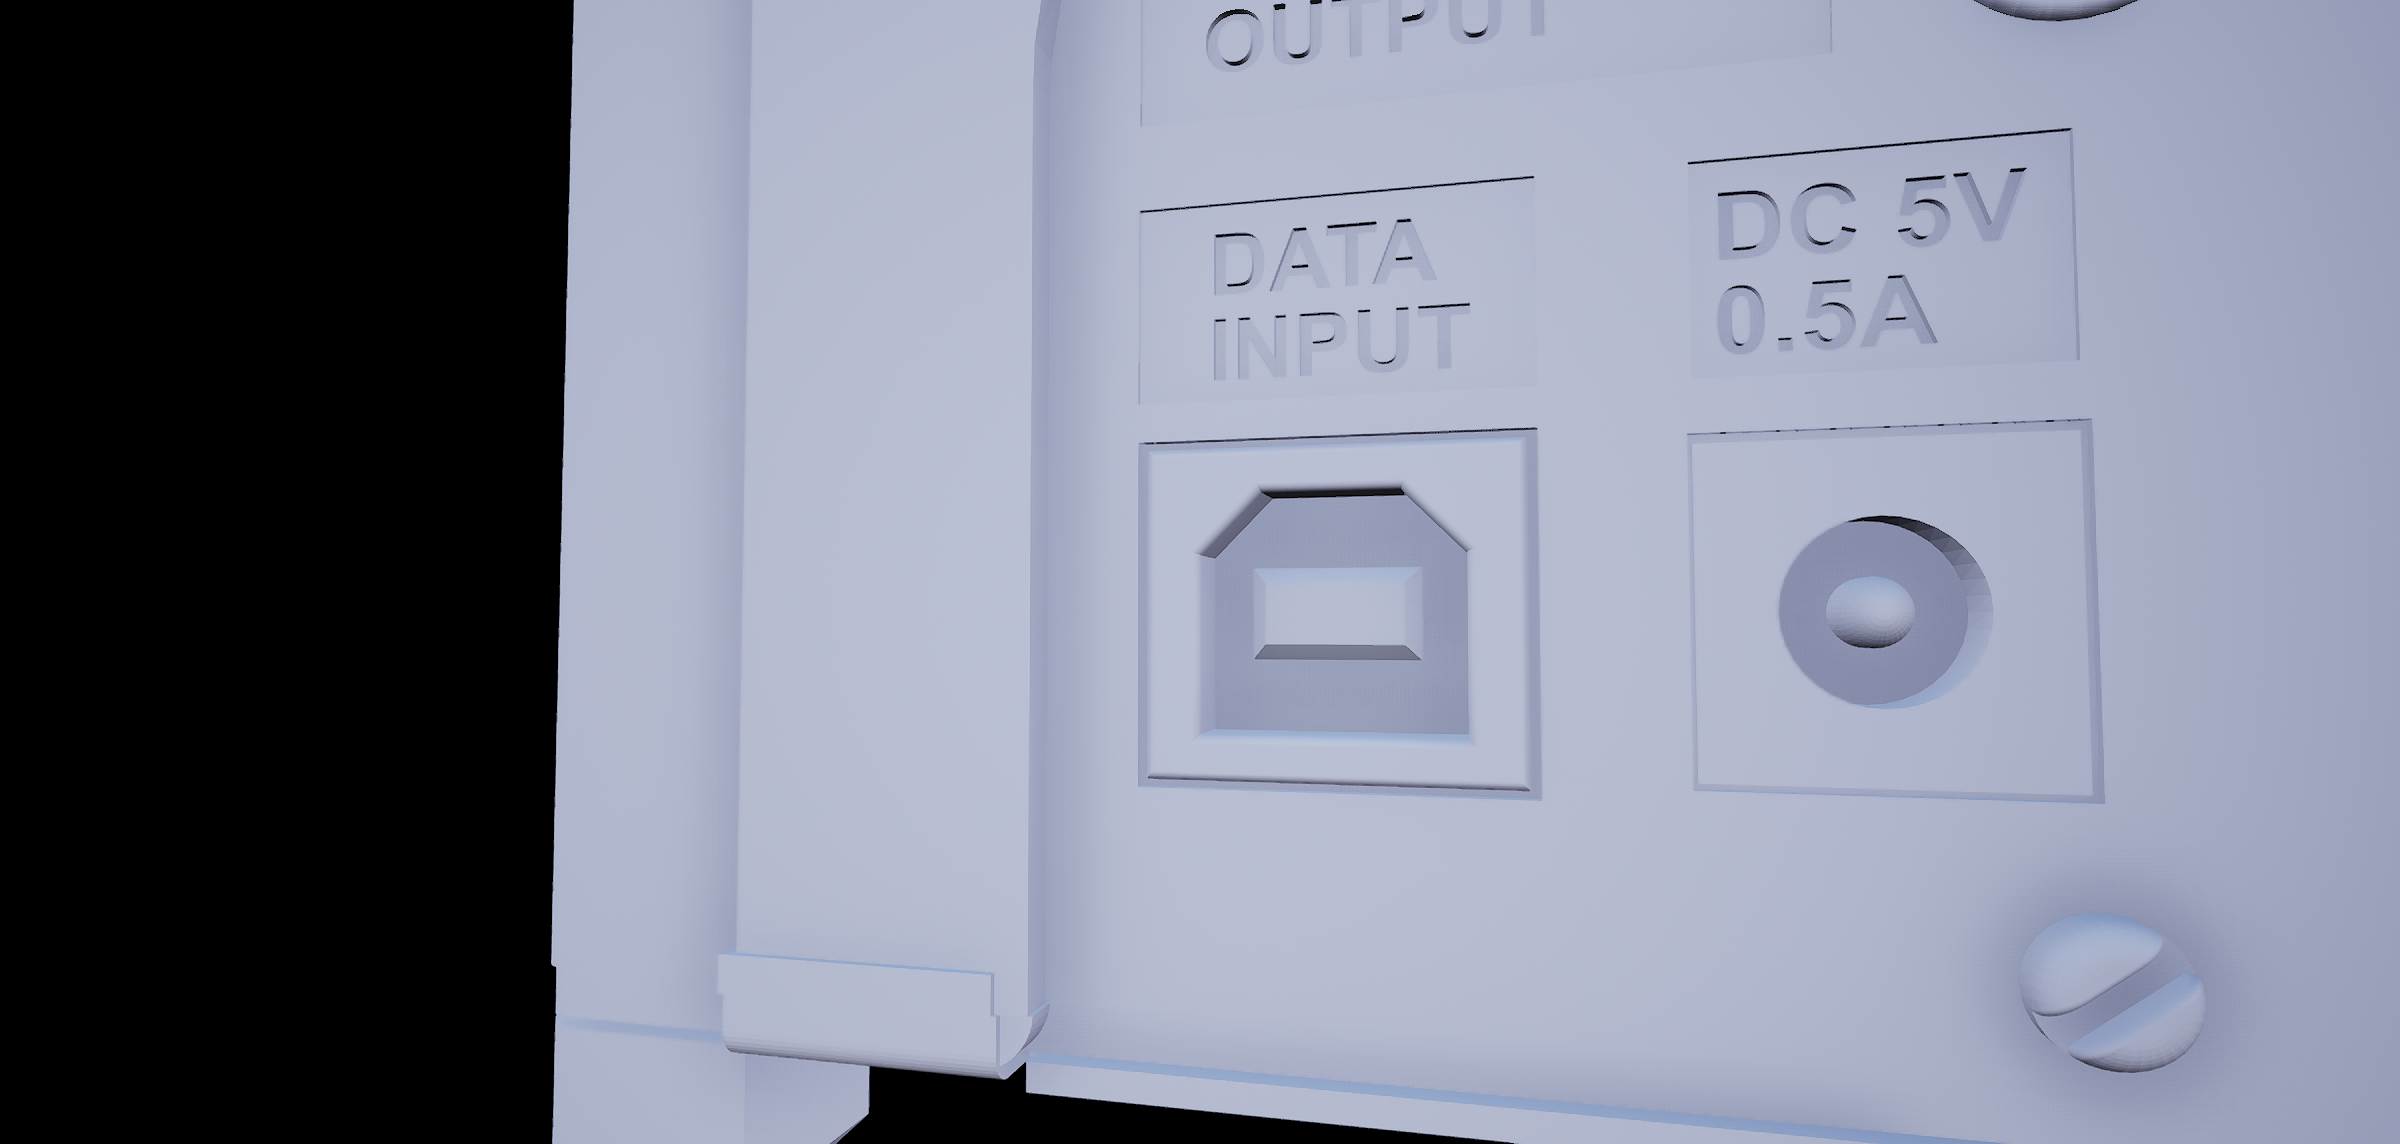dc: (1759, 504, 2020, 741)
usb: (1189, 475, 1497, 752)
